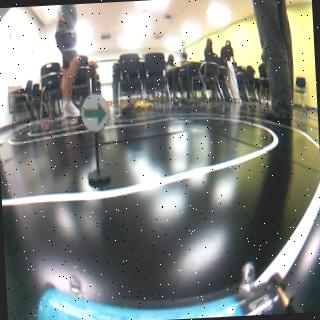right: (80, 93, 110, 133)
